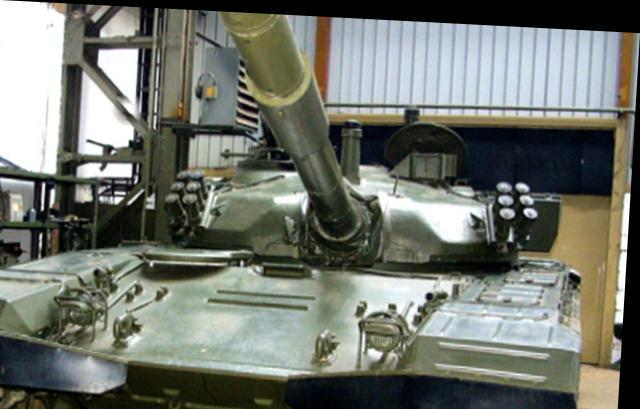tank: (4, 138, 603, 408)
